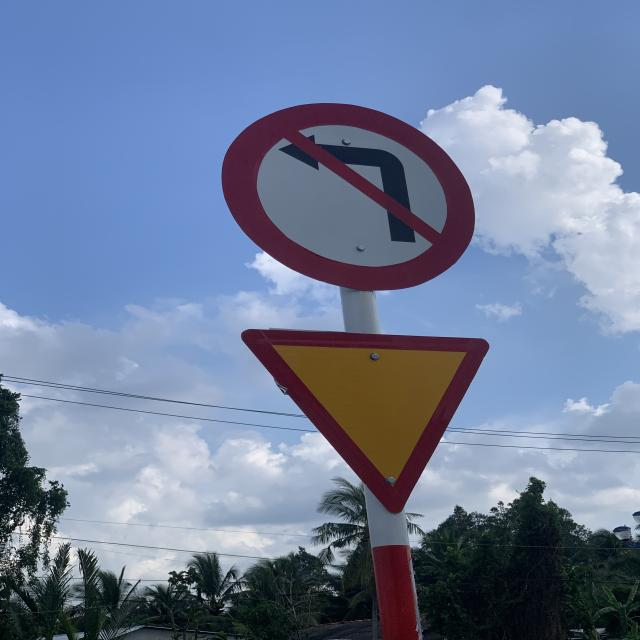Cam_Re_Trai: (223, 102, 480, 291)
Gioi_Han_Toc_Do_25: (240, 333, 492, 516)
